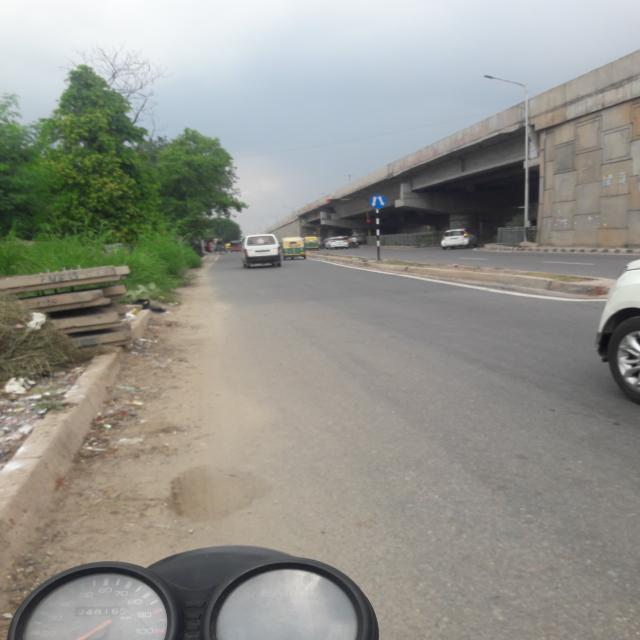pass either side: (370, 194, 385, 209)
